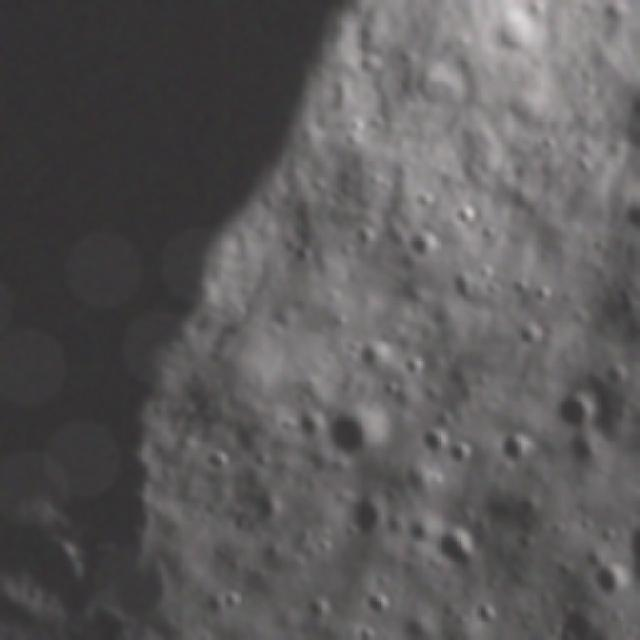crater: (22, 526, 95, 605), (324, 407, 404, 461), (437, 521, 491, 581), (492, 12, 548, 54), (586, 558, 628, 612), (338, 498, 391, 540), (627, 480, 640, 640), (360, 586, 405, 631), (500, 430, 538, 470), (557, 394, 589, 434), (600, 358, 634, 391), (452, 270, 478, 312), (532, 280, 562, 314), (359, 338, 392, 368), (444, 441, 481, 467), (402, 356, 436, 384), (217, 589, 252, 616), (204, 444, 238, 471), (290, 243, 322, 265), (453, 199, 481, 224), (425, 430, 447, 456), (629, 196, 640, 242), (418, 188, 438, 212), (482, 222, 504, 242), (484, 282, 508, 298), (510, 279, 530, 298), (349, 115, 369, 134), (478, 262, 499, 280), (635, 132, 640, 156), (635, 452, 640, 474), (440, 637, 469, 640)
